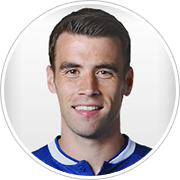smile: (71, 101, 105, 117)
